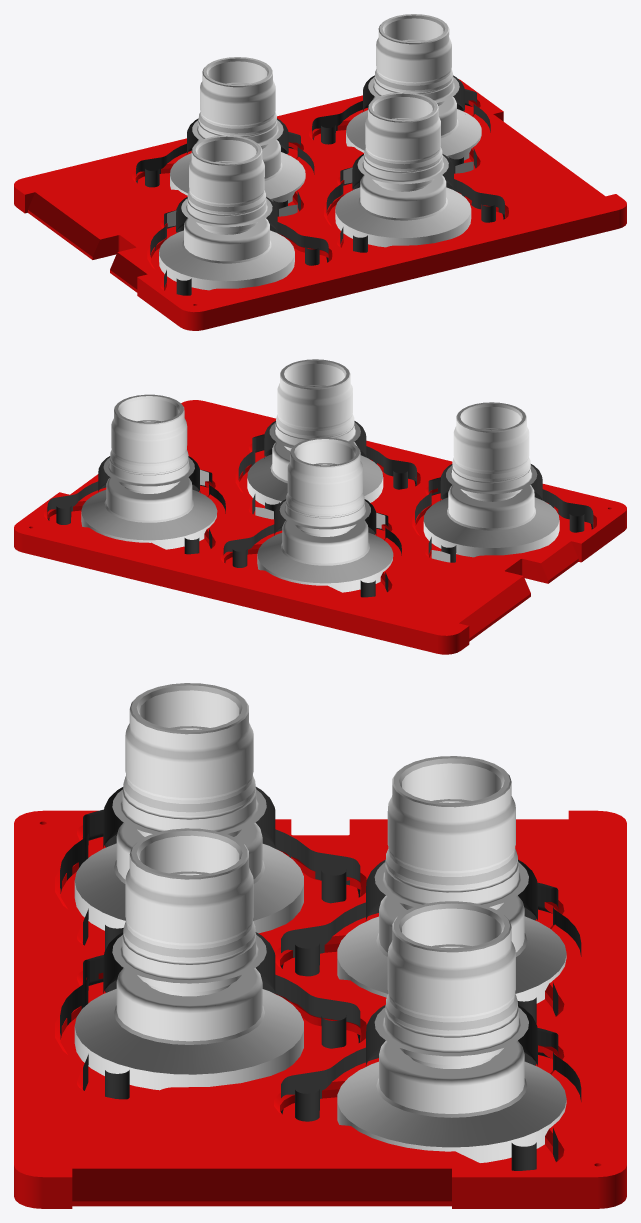
File: Flange.fbx
The picture shows the model from 3 angles, top to bottom: view 1: azimuth 30°, elevation 25°; view 2: azimuth 150°, elevation 25°; view 3: azimuth 270°, elevation 25°; orthographic projection. The views are drawn at different scales.
Parts seen in each view (by area): view 1: Flange_Pallet, Flange_4, Flange_3, Flange_2, Flange_1; view 2: Flange_Pallet, Flange_3, Flange_2, Flange_1, Flange_4; view 3: Flange_Pallet, Flange_4, Flange_2, Flange_3, Flange_1.
Boxes of the visible parts, x1,y1,x2,y2 form: Flange_Pallet: (14,79,626,330); Flange_4: (326,92,504,252); Flange_3: (150,135,328,295); Flange_2: (312,14,490,173); Flange_1: (136,57,314,216); Flange_Pallet: (14,400,626,654); Flange_3: (415,402,593,562); Flange_2: (47,394,225,554); Flange_1: (223,437,401,597); Flange_4: (238,359,416,519); Flange_Pallet: (14,810,626,1208); Flange_4: (60,828,360,1099); Flange_2: (281,901,581,1170); Flange_3: (60,683,360,950); Flange_1: (281,756,581,1023).
Size of the model in its own units: 32.72 by 8.7 by 23.13.
